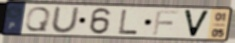6: (87, 6, 113, 35)
F: (151, 9, 180, 36)
L: (118, 8, 140, 35)
Q: (23, 6, 53, 33)
U: (50, 6, 81, 34)
V: (182, 9, 212, 39)
